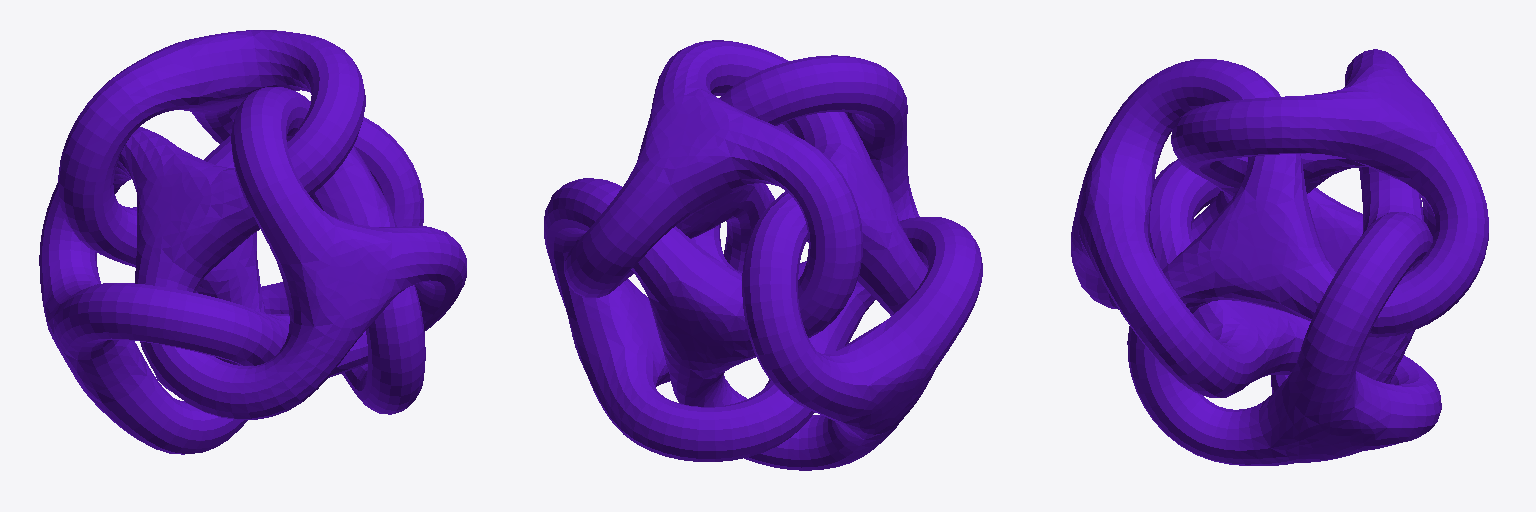
The model's file is tangle.obj.
The picture shows the model from 3 angles: view 1: azimuth 30°, elevation 25°; view 2: azimuth 150°, elevation 25°; view 3: azimuth 270°, elevation 25°; orthographic projection.
Parts seen in each view (by area): view 1: fig8a; view 2: fig8a; view 3: fig8a.
Part boxes in pixels (left/top/right/bottom): fig8a: left=39, top=30, right=466, bottom=454; fig8a: left=544, top=40, right=982, bottom=470; fig8a: left=1071, top=49, right=1488, bottom=465.
Size of the model in its own units: 5.03 by 4.81 by 4.77.